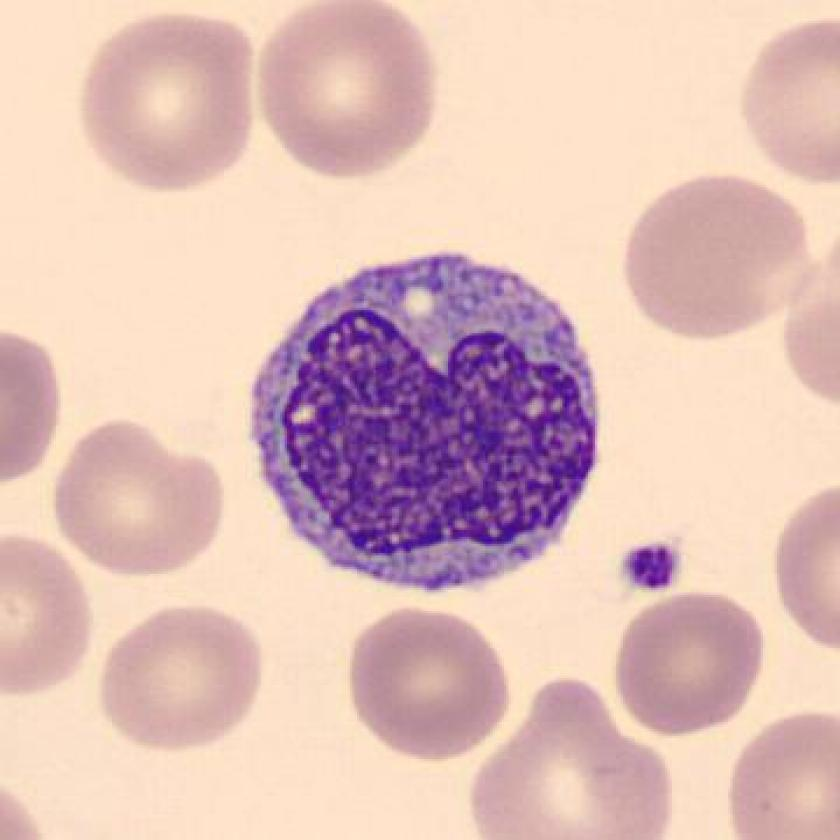monocyte: (239, 237, 622, 617), (769, 468, 776, 471)
